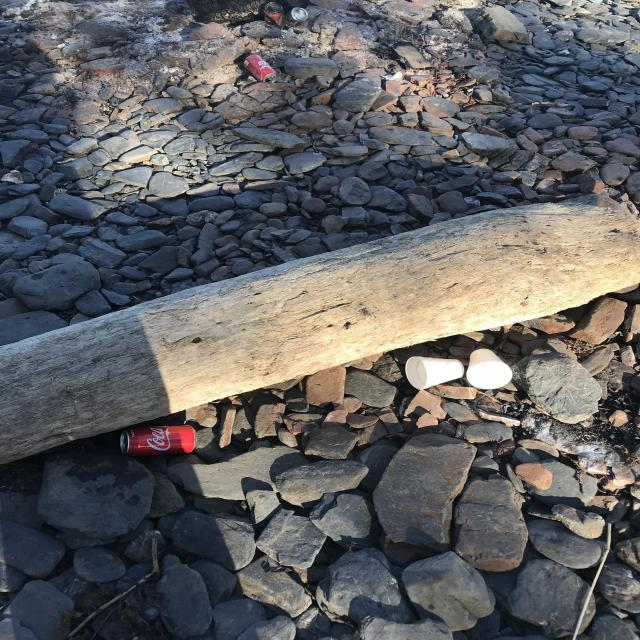Drink can: (120, 425, 198, 456), (243, 55, 277, 82), (264, 2, 285, 29), (286, 7, 309, 23)
Foam cup: (405, 356, 464, 390), (466, 349, 513, 389)
Pop tab: (268, 76, 275, 80)
Unlabeled litter: (385, 71, 402, 81)
